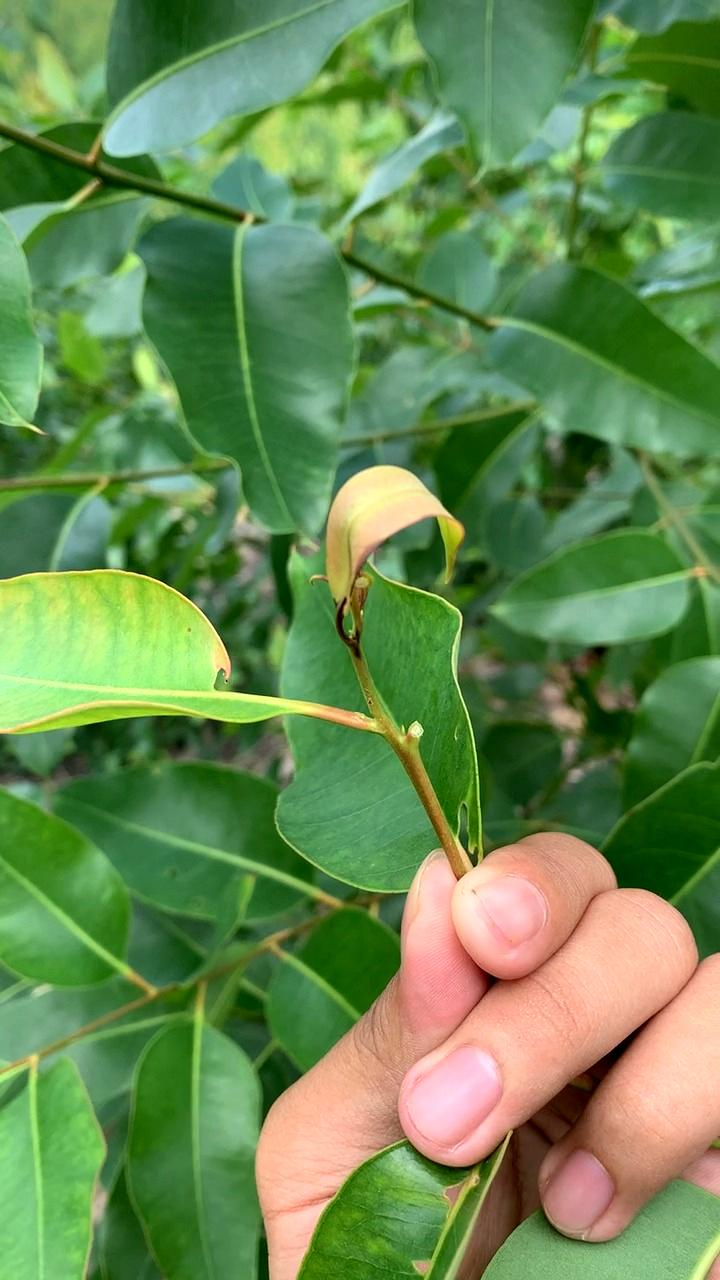Helopeltis-Withered Sprout: (298, 448, 471, 673)
